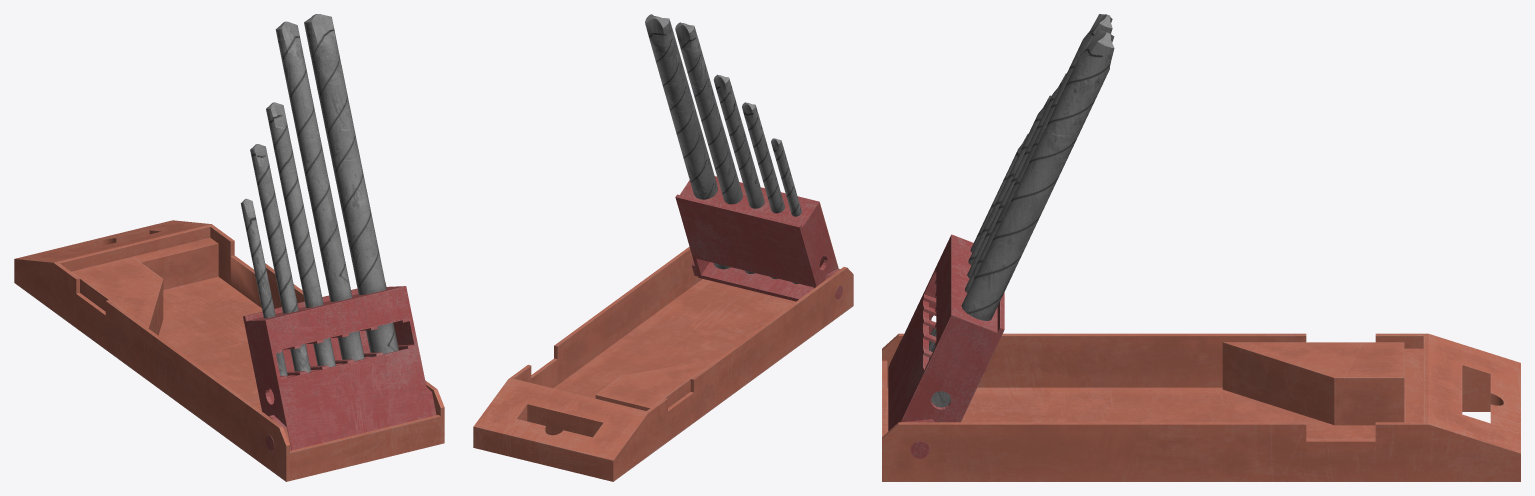
The model's file is Drills01.FBX.
3 views of the same model, side by side, from view 1: azimuth 30°, elevation 25°; view 2: azimuth 150°, elevation 25°; view 3: azimuth 270°, elevation 25° (orthographic). The views are drawn at different scales.
Visible parts, largest first — view 1: Drills01_LOD0; view 2: Drills01_LOD0; view 3: Drills01_LOD0.
Part boxes in pixels (x1,y1,x2,y2): Drills01_LOD0: (14, 14, 444, 481); Drills01_LOD0: (473, 14, 853, 481); Drills01_LOD0: (882, 14, 1520, 481).
Size of what is drawn, in the model's own units: 72.55 by 160 by 215.
